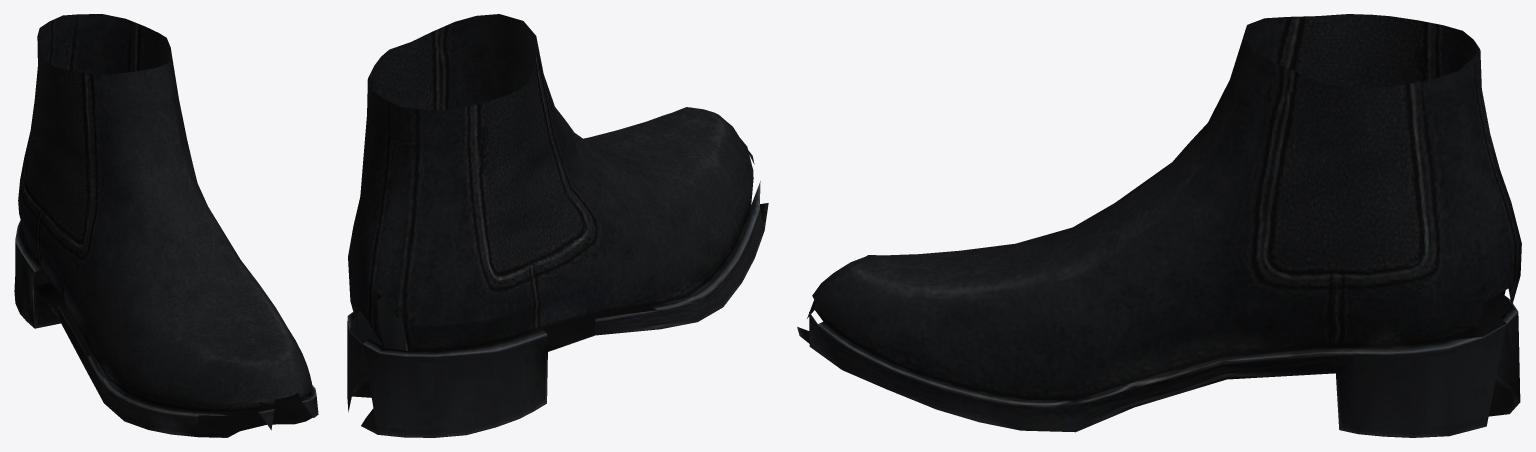
Rendered from estudiante1_zapatoder.glb.
3 views of the same model, side by side, from view 1: azimuth 30°, elevation 25°; view 2: azimuth 150°, elevation 25°; view 3: azimuth 270°, elevation 25° (orthographic). The views are drawn at different scales.
Visible parts, largest first — view 1: Object_21.002; view 2: Object_21.002; view 3: Object_21.002.
Boxes of the visible parts, box(x1,y1,x2,y2) form: Object_21.002: box(14, 14, 318, 437); Object_21.002: box(347, 14, 768, 437); Object_21.002: box(797, 14, 1521, 437).
Bounding box in the file's own units: 0.1087 × 0.1752 × 0.315.
1 material, 1 textured.
